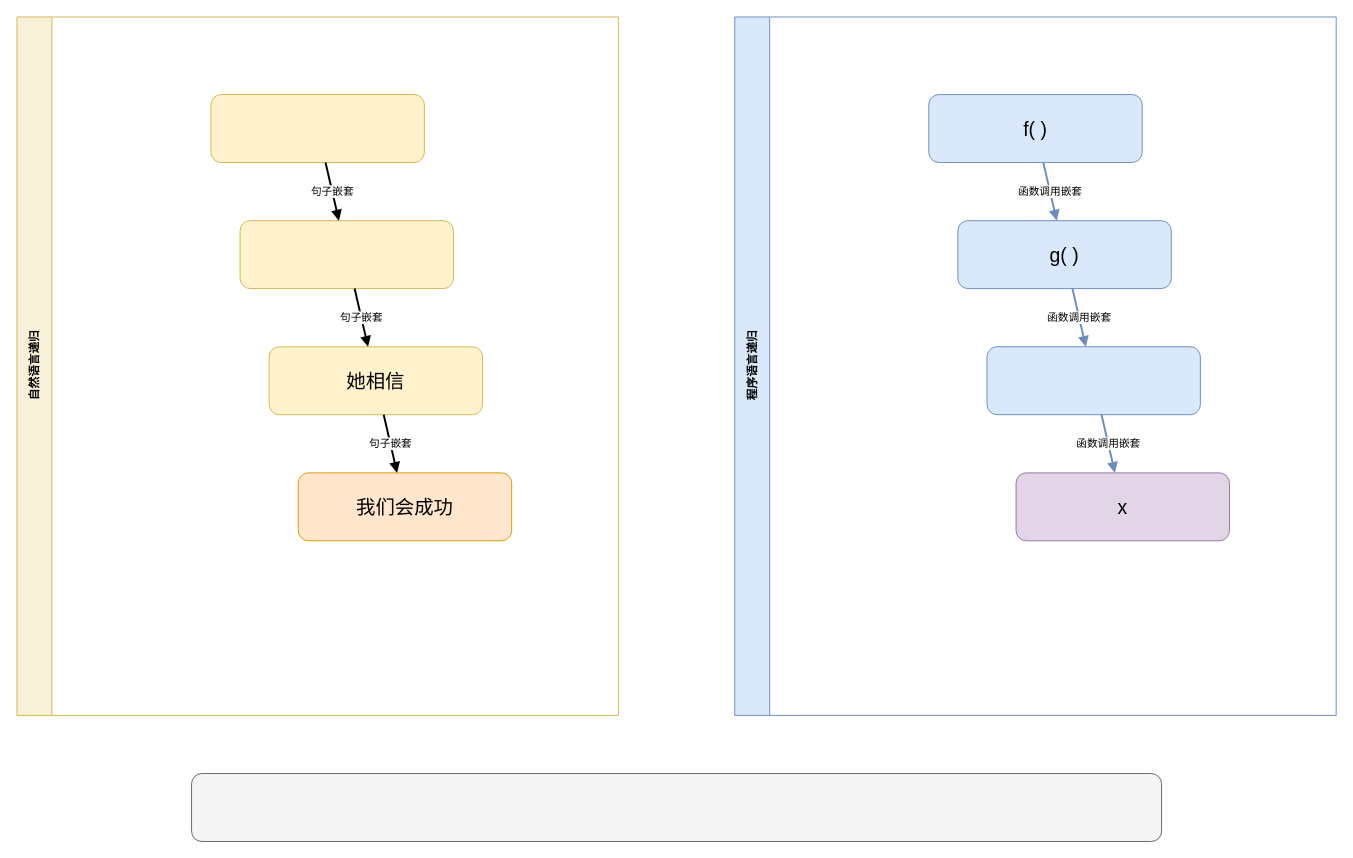
The diagram is 1353 pixels wide and 858 high, and some of its shapes have lost their labels. The centre of each missing label's shape, as x and y in pixels:
h( ): point (1093, 380)
他说: point (346, 254)
共同点：同一层级结构可递归嵌套，有限规则可生成无限深度表达。: point (676, 807)
我知道: point (317, 128)
